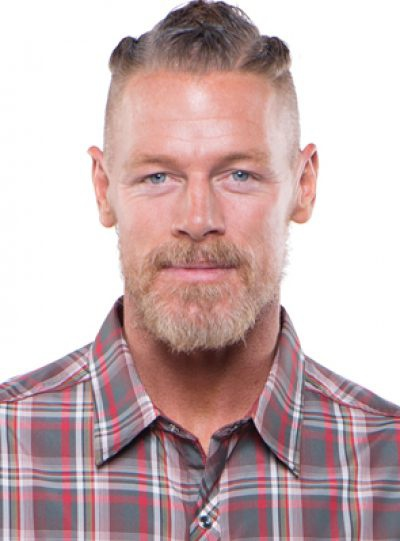bad: (92, 118, 315, 341)
